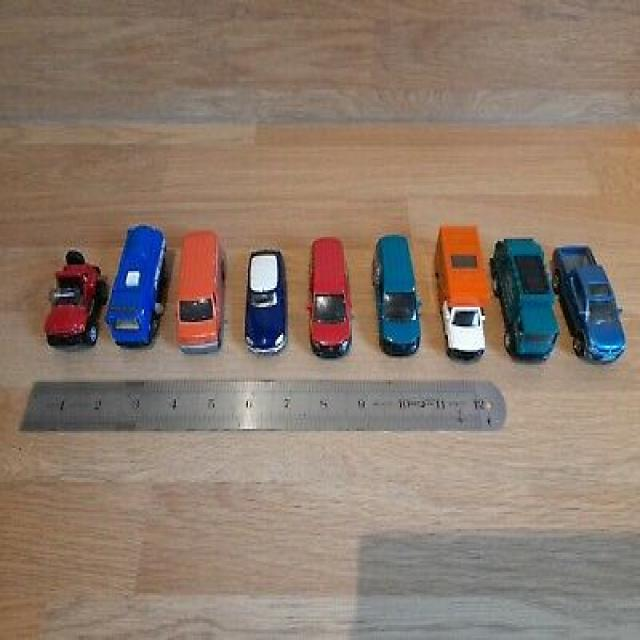Car: (552, 243, 626, 363), (102, 222, 166, 345), (174, 228, 226, 354), (43, 248, 106, 346), (371, 233, 421, 356), (306, 235, 352, 358), (244, 248, 286, 354)
